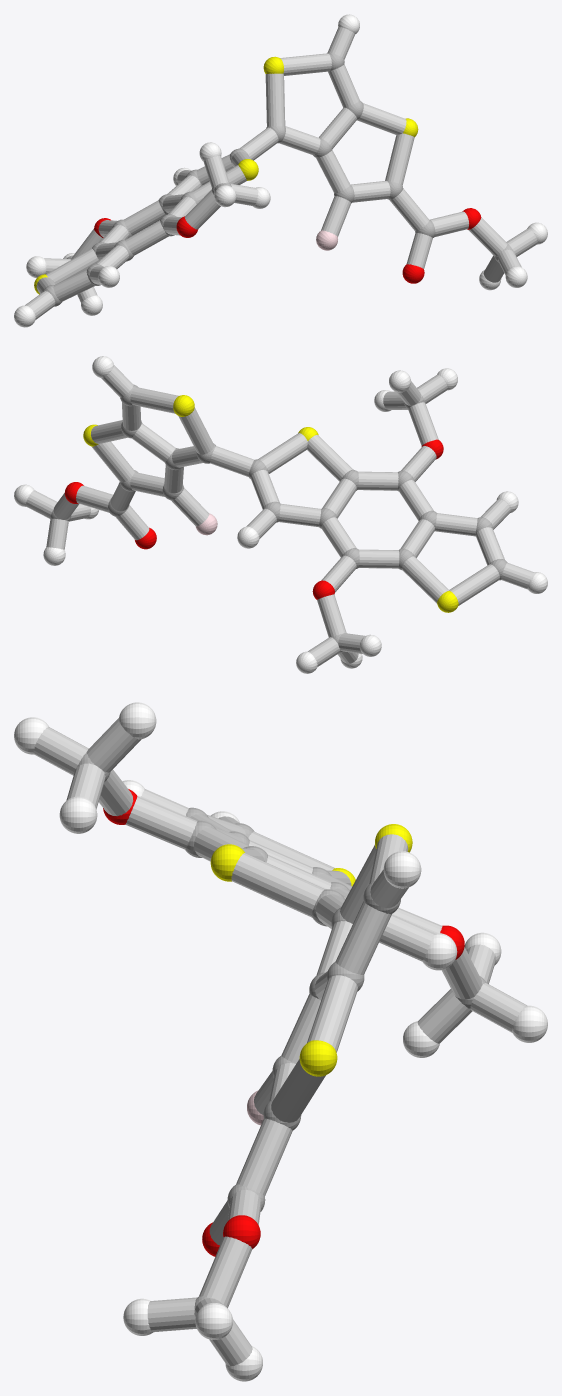
Rendered from color.glb.
The picture shows the model from 3 angles, top to bottom: view 1: azimuth 30°, elevation 25°; view 2: azimuth 150°, elevation 25°; view 3: azimuth 270°, elevation 25°; orthographic projection. The views are drawn at different scales.
Visible parts, largest first — view 1: grp15205, grp8689, grp1, grp13395, grp7241; view 2: grp15205, grp8689, grp1, grp7241, grp13395; view 3: grp15205, grp8689, grp1, grp7241, grp13395.
Boxes of the visible parts, x1=… form: grp15205: x1=25, y1=27, x2=537, y2=319; grp8689: x1=14, y1=14, x2=547, y2=327; grp1: x1=43, y1=52, x2=513, y2=306; grp13395: x1=94, y1=208, x2=481, y2=283; grp7241: x1=34, y1=56, x2=418, y2=294; grp15205: x1=25, y1=365, x2=533, y2=666; grp8689: x1=14, y1=356, x2=547, y2=673; grp1: x1=50, y1=384, x2=507, y2=652; grp7241: x1=83, y1=395, x2=458, y2=612; grp13395: x1=64, y1=439, x2=443, y2=599; grp15205: x1=33, y1=718, x2=526, y2=1366; grp8689: x1=14, y1=702, x2=547, y2=1381; grp1: x1=77, y1=752, x2=486, y2=1309; grp7241: x1=210, y1=824, x2=412, y2=1076; grp13395: x1=103, y1=789, x2=464, y2=1256.
Bounding box in the file's own units: 16.56 × 7.87 × 8.5.
